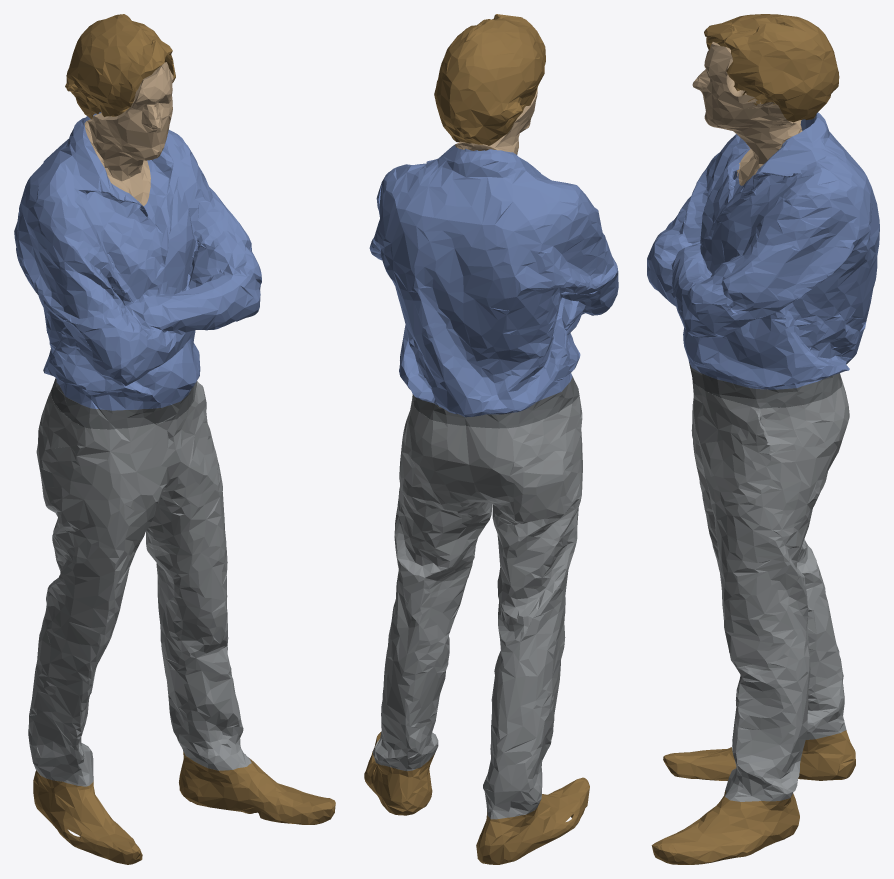
File: human1.gltf
The picture shows the model from 3 angles, left to right: view 1: azimuth 30°, elevation 25°; view 2: azimuth 150°, elevation 25°; view 3: azimuth 270°, elevation 25°; orthographic projection. The views are drawn at different scales.
Visible parts, largest first — view 1: Mesh_Mesh_head_geo.001_lambert2SG.001; view 2: Mesh_Mesh_head_geo.001_lambert2SG.001; view 3: Mesh_Mesh_head_geo.001_lambert2SG.001.
Part boxes in pixels (x1,y1,x2,y2): Mesh_Mesh_head_geo.001_lambert2SG.001: [14, 14, 335, 864]; Mesh_Mesh_head_geo.001_lambert2SG.001: [364, 14, 618, 864]; Mesh_Mesh_head_geo.001_lambert2SG.001: [647, 14, 879, 864].
Bounding box in the file's own units: 26 × 78 × 21.12.
